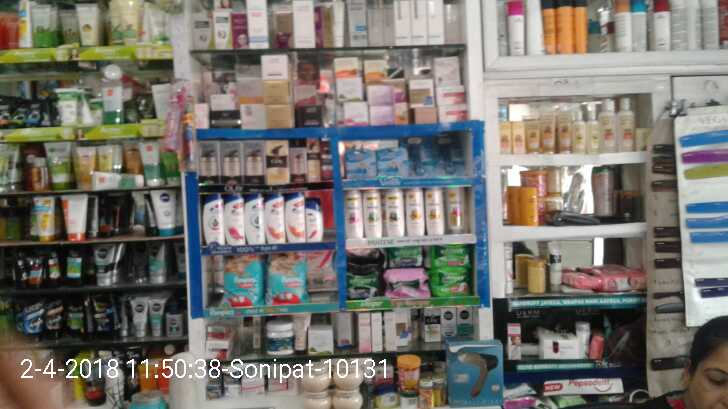venus: (435, 135, 466, 175), (409, 138, 434, 178), (344, 149, 377, 179), (378, 147, 408, 178)
